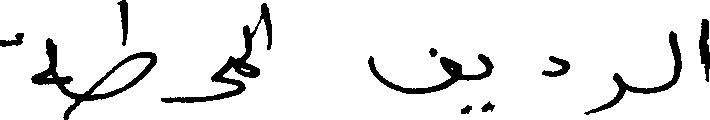ا: (694, 17, 707, 83), (259, 1, 272, 51)
ة: (0, 31, 73, 106)
ح: (160, 75, 244, 103)
د: (540, 54, 569, 78)
ر: (583, 71, 627, 116)
ط: (80, 0, 157, 104)
ف: (364, 45, 459, 114)
ل: (227, 12, 252, 62), (218, 52, 262, 77), (666, 28, 681, 90)
ي: (459, 51, 494, 114)
